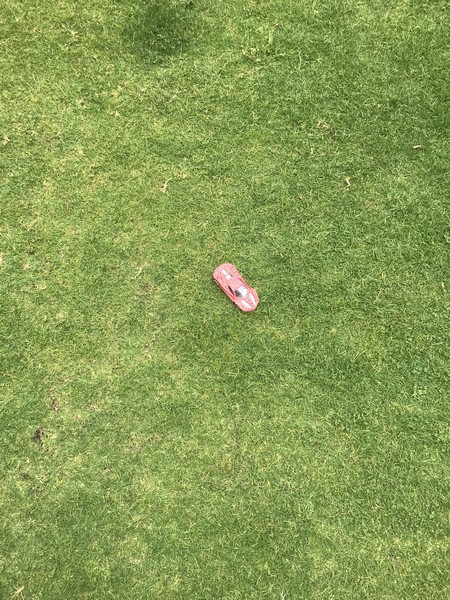RC: (211, 258, 260, 314)
